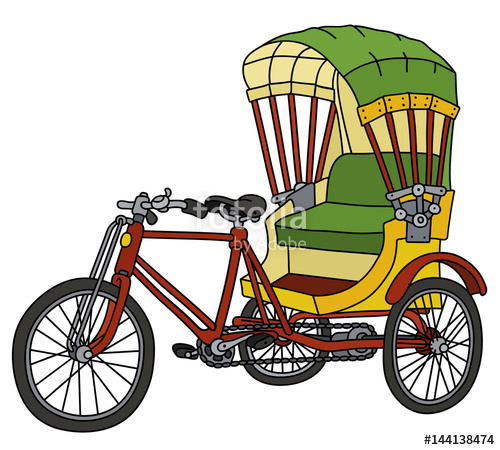Rickshaw: (15, 13, 487, 433)
